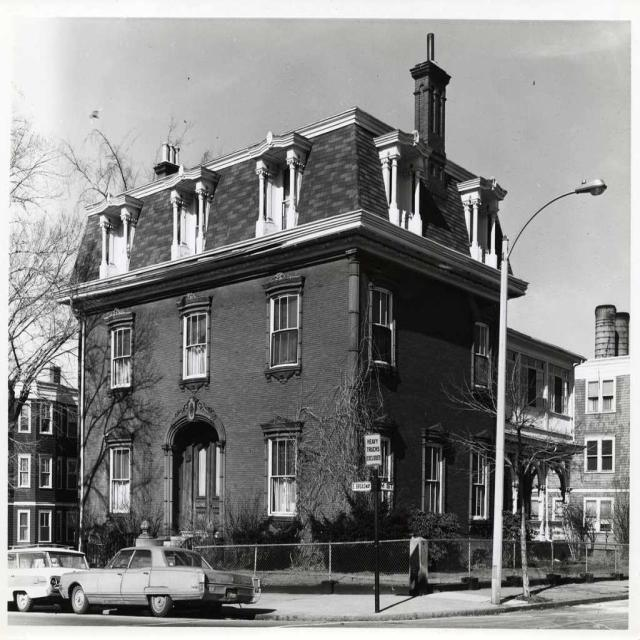car: (59, 541, 260, 615)
